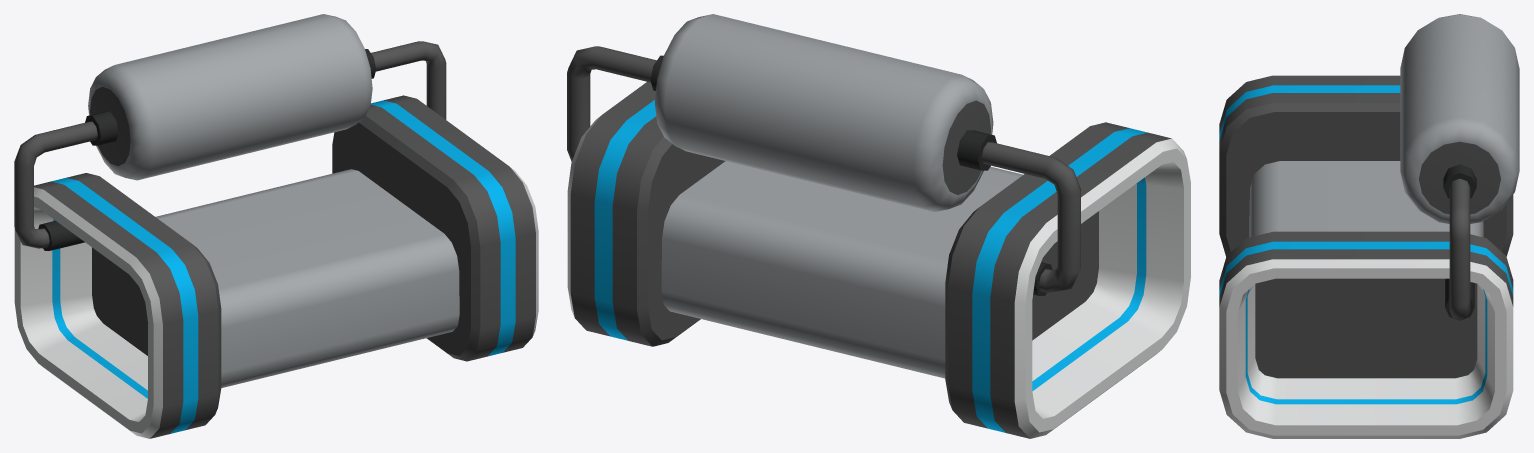
The model's file is Mini_sofa_006.fbx.
3 renders of one model, left to right at view 1: azimuth 30°, elevation 25°; view 2: azimuth 150°, elevation 25°; view 3: azimuth 270°, elevation 25°, orthographic. The views are drawn at different scales.
Visible parts, largest first — view 1: Mini_sofa_006; view 2: Mini_sofa_006; view 3: Mini_sofa_006.
Boxes of the visible parts, x1=… form: Mini_sofa_006: x1=14, y1=14, x2=538, y2=438; Mini_sofa_006: x1=567, y1=14, x2=1190, y2=438; Mini_sofa_006: x1=1219, y1=14, x2=1519, y2=438.
Size of the model in its own units: 150 by 89.85 by 92.89.
